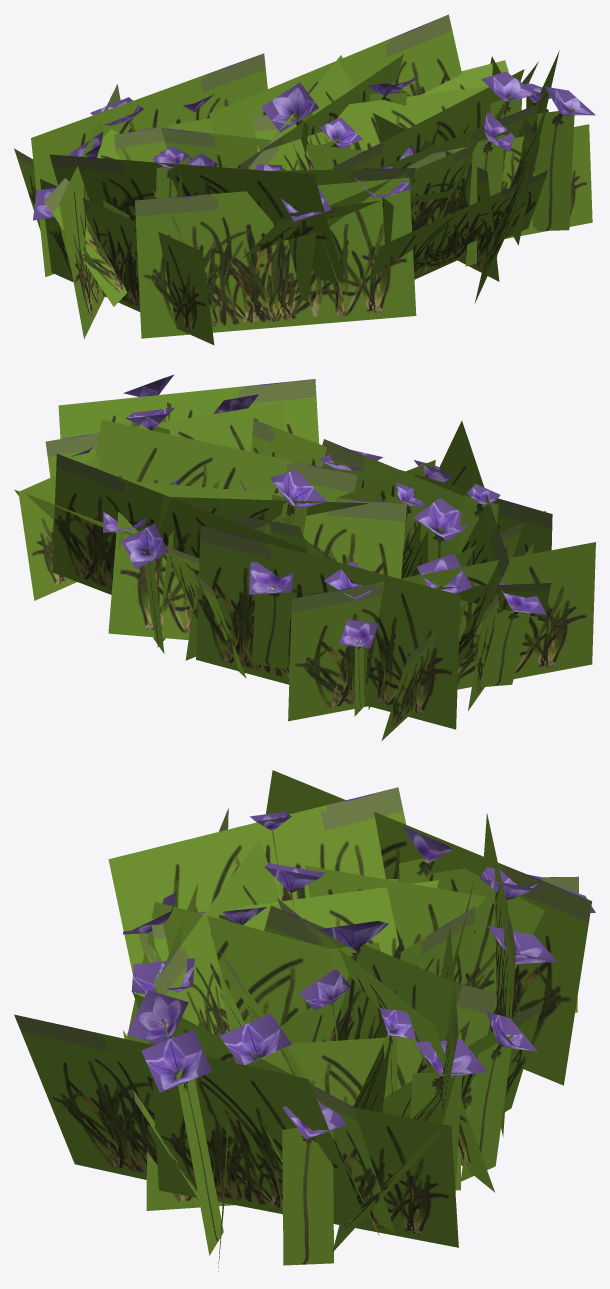
File: CLX_zhiwu_03.FBX
3 views of the same model, one above another, from view 1: azimuth 30°, elevation 25°; view 2: azimuth 150°, elevation 25°; view 3: azimuth 270°, elevation 25° (orthographic). The views are drawn at different scales.
Parts seen in each view (by area): view 1: CLX_zhiwu_03; view 2: CLX_zhiwu_03; view 3: CLX_zhiwu_03.
Part boxes in pixels (left/top/right/bottom): CLX_zhiwu_03: left=14, top=14, right=595, bottom=344; CLX_zhiwu_03: left=14, top=374, right=595, bottom=740; CLX_zhiwu_03: left=14, top=770, right=595, bottom=1271.
Size of the model in its own units: 4.44 by 1.5 by 3.26.
